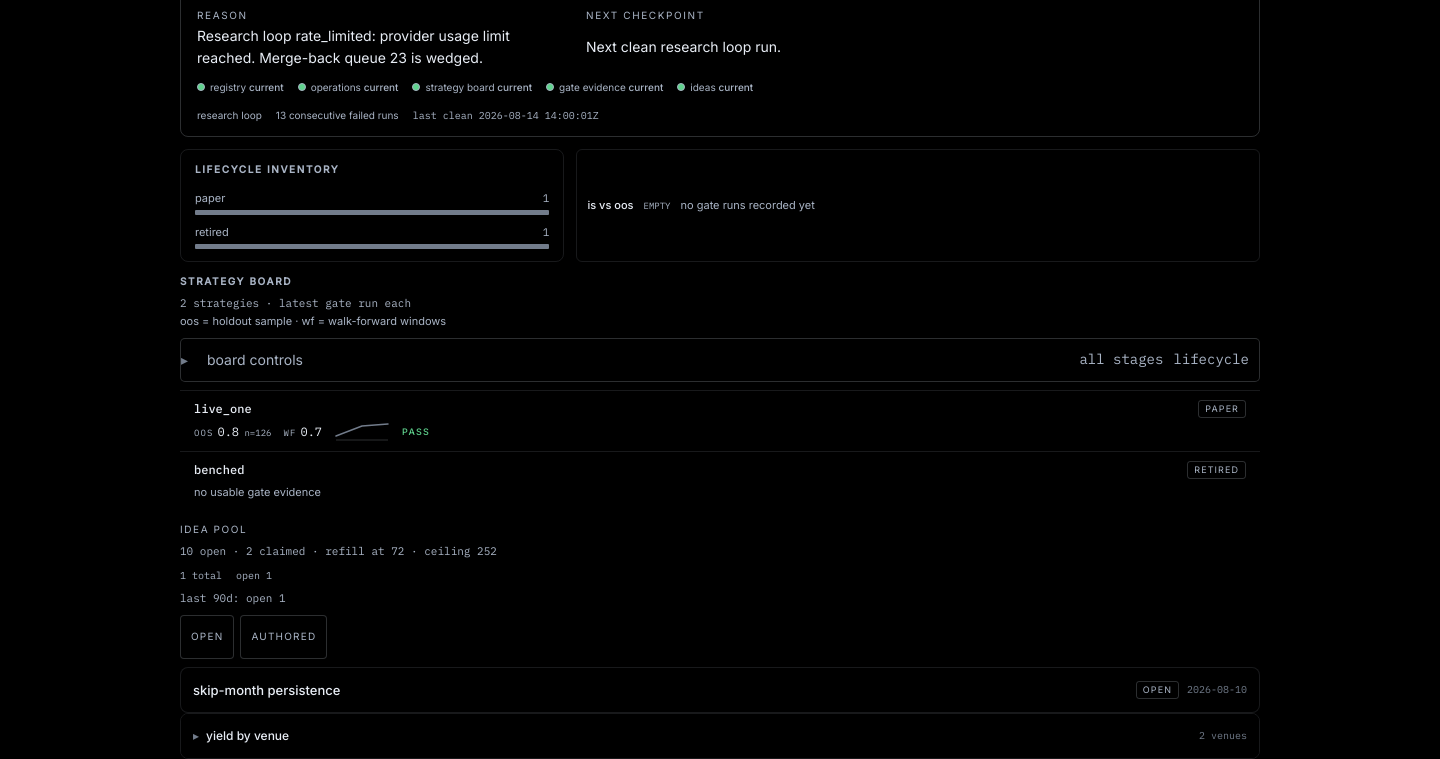
Test: shows pool depth above the tiles and yield-by-venue after the list
This screenshot has width=1440, height=759.
(page scrolled)
Check: the text "10 open · 2 claimed · refill at 72 · ceiling 252" is shown, box [180,544,497,558]
Click the button "yield by venue 2 venues": coordinates (248, 735) [181,714,1259,758]
(page scrolled)
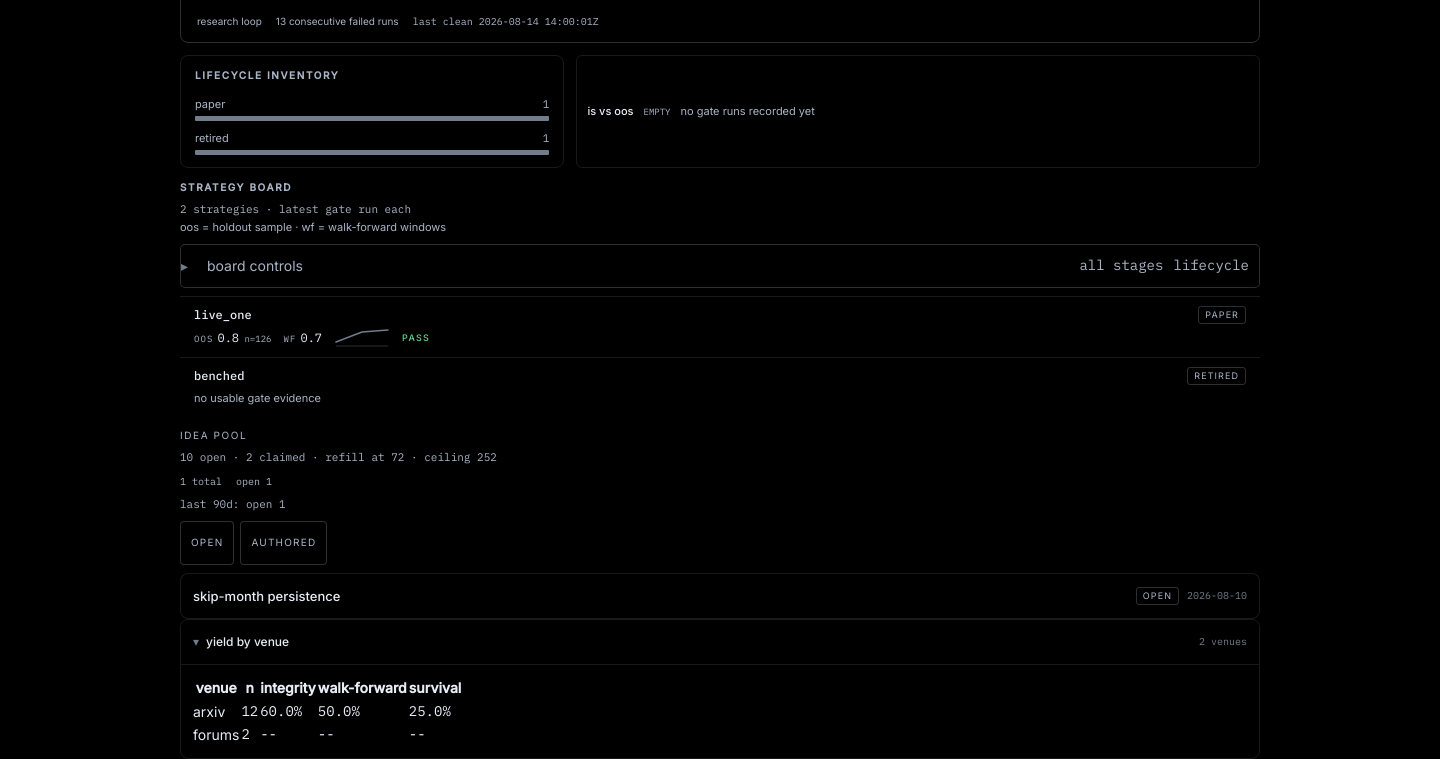
Check: the table is shown, box [191,675,463,748]
Check: the text "arxiv" is shown, box [193,701,239,722]
Check: the text "forums" is shown, box [193,724,239,746]
